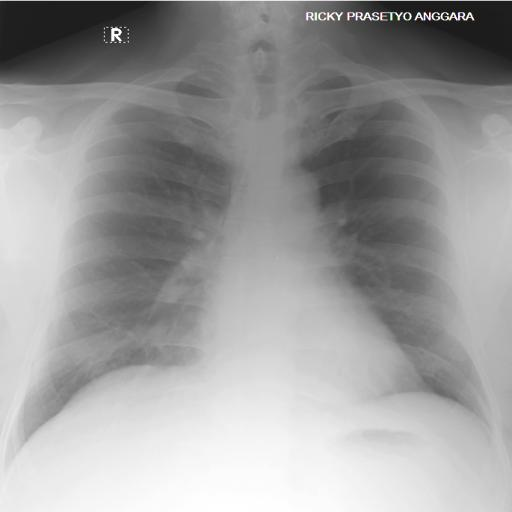normal: (4, 35, 506, 457)
